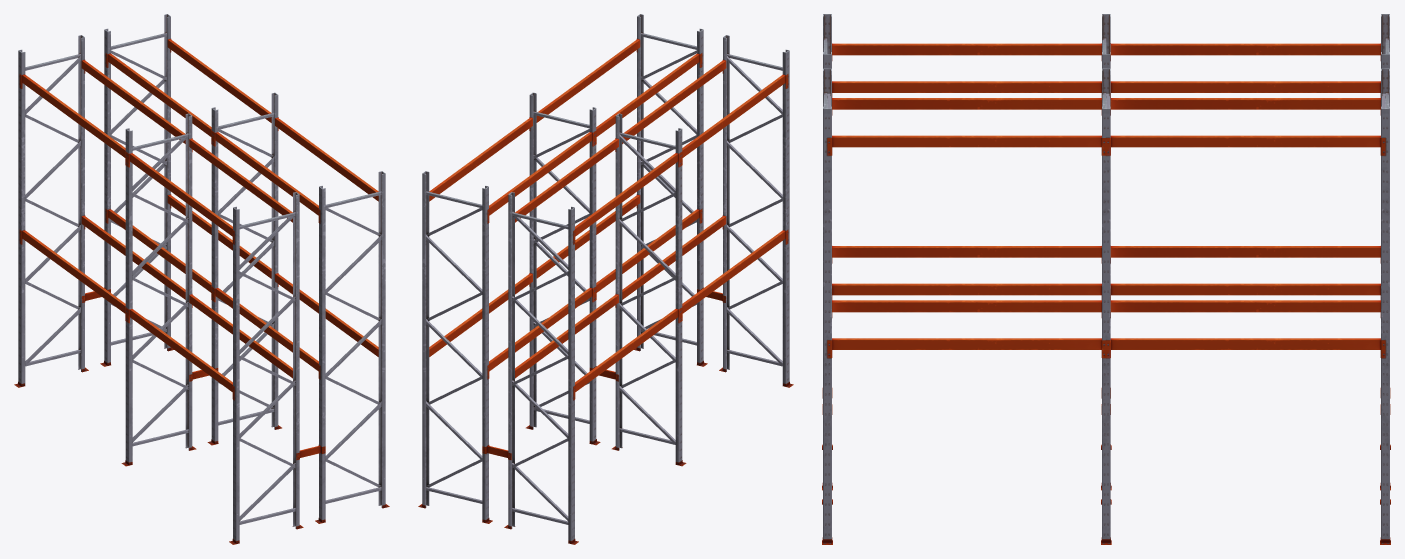
Rendered from WarehouseShelves01_2.FBX.
3 views of the same model, side by side, from view 1: azimuth 30°, elevation 25°; view 2: azimuth 150°, elevation 25°; view 3: azimuth 270°, elevation 25° (orthographic). The views are drawn at different scales.
Parts seen in each view (by area): view 1: WarehouseShelves01_2; view 2: WarehouseShelves01_2; view 3: WarehouseShelves01_2.
Part boxes in pixels (left/top/right/bottom): WarehouseShelves01_2: left=14, top=14, right=389, bottom=544; WarehouseShelves01_2: left=418, top=14, right=793, bottom=544; WarehouseShelves01_2: left=822, top=14, right=1390, bottom=544.
Size of what is drawn, in the model's own units: 2.1 by 4.29 by 5.1.
